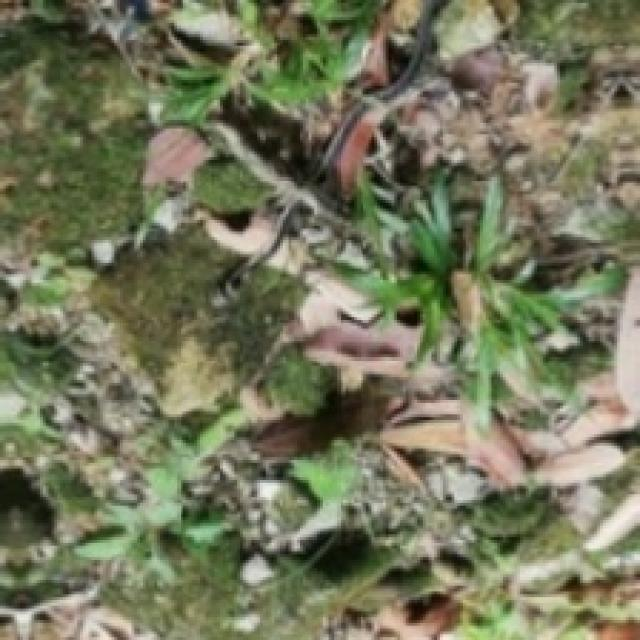king cobra: (220, 200, 300, 300), (379, 0, 446, 101), (321, 102, 366, 171)
